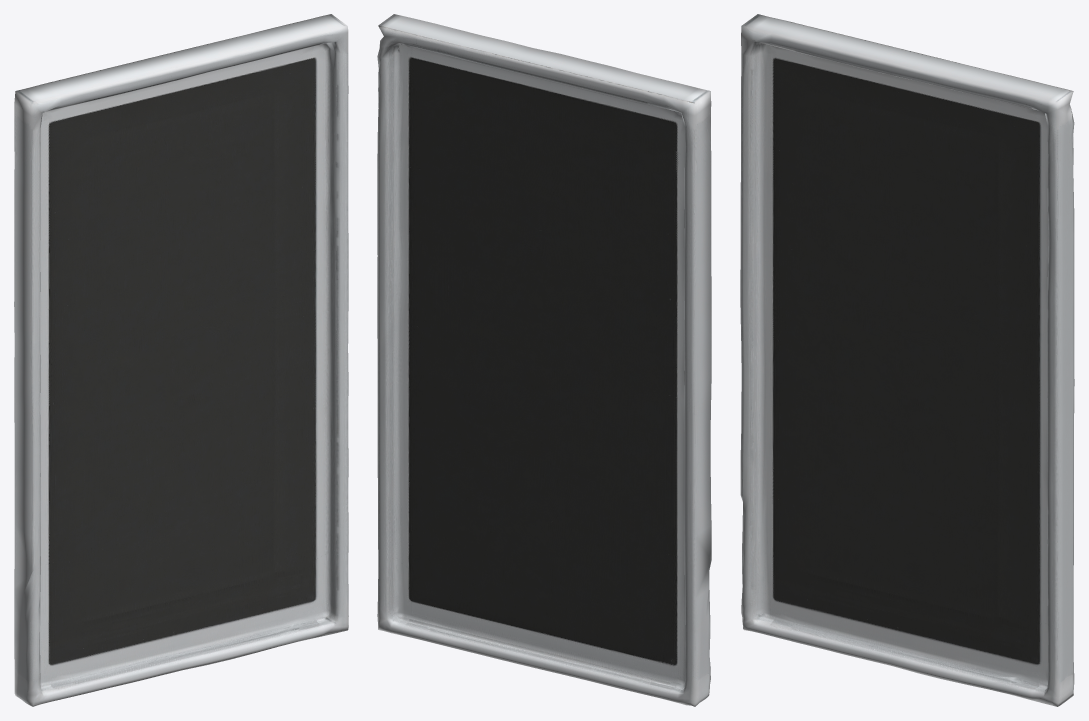
The model's file is house_mod_glass_panel_glassver.glb.
The picture shows the model from 3 angles, left to right: view 1: azimuth 30°, elevation 25°; view 2: azimuth 150°, elevation 25°; view 3: azimuth 330°, elevation 25°; orthographic projection.
Bounding box in the file's own units: 1.1 × 2 × 0.107.
1 material, 1 textured.
